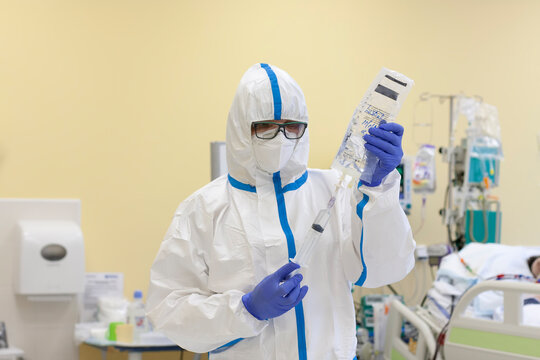Coverall: (162, 63, 403, 360)
Gloves: (236, 262, 312, 324), (355, 122, 406, 191)
with_mask: (251, 118, 303, 172)
